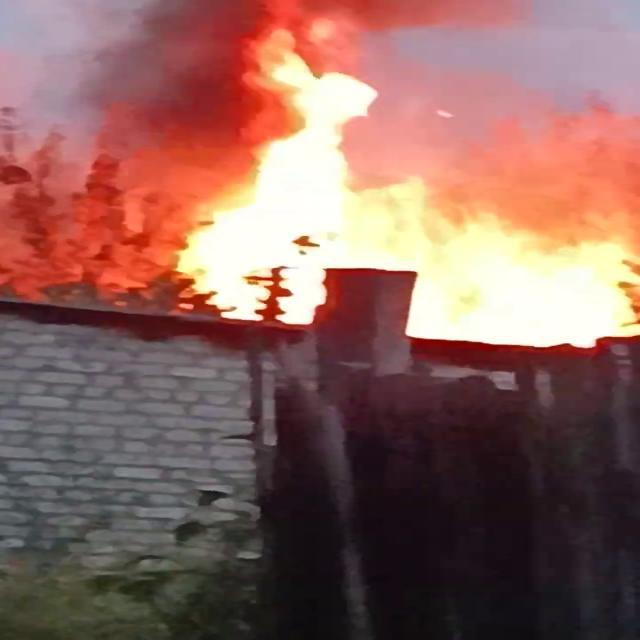Fire: (145, 15, 638, 349)
